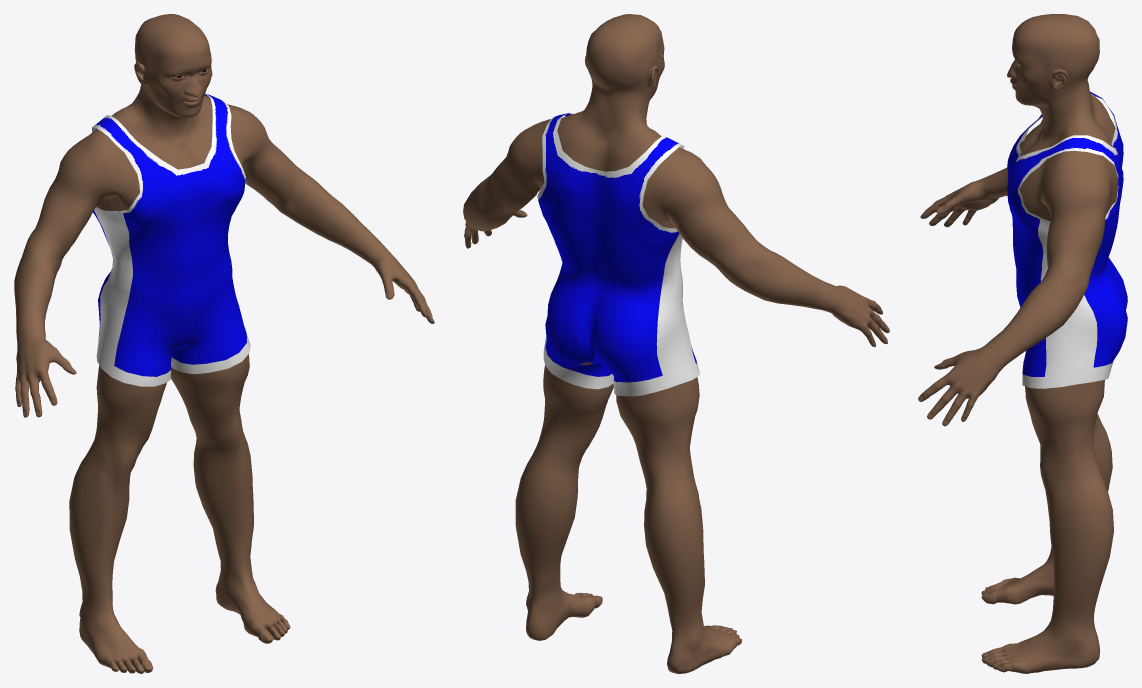
File: p_random4.fbx
3 renders of one model, left to right at view 1: azimuth 30°, elevation 25°; view 2: azimuth 150°, elevation 25°; view 3: azimuth 270°, elevation 25°, orthographic.
Parts seen in each view (by area): view 1: p_random4Mesh, wrestling_suitMesh; view 2: p_random4Mesh, wrestling_suitMesh; view 3: p_random4Mesh, wrestling_suitMesh.
Boxes of the visible parts, x1,y1,x2,y2 form: p_random4Mesh: [14, 14, 434, 673]; wrestling_suitMesh: [92, 93, 250, 386]; p_random4Mesh: [463, 14, 889, 673]; wrestling_suitMesh: [537, 112, 699, 396]; p_random4Mesh: [918, 14, 1118, 673]; wrestling_suitMesh: [1007, 91, 1127, 388].
Size of the model in its own units: 99.53 by 143 by 44.29.
3 materials, 2 textured.
